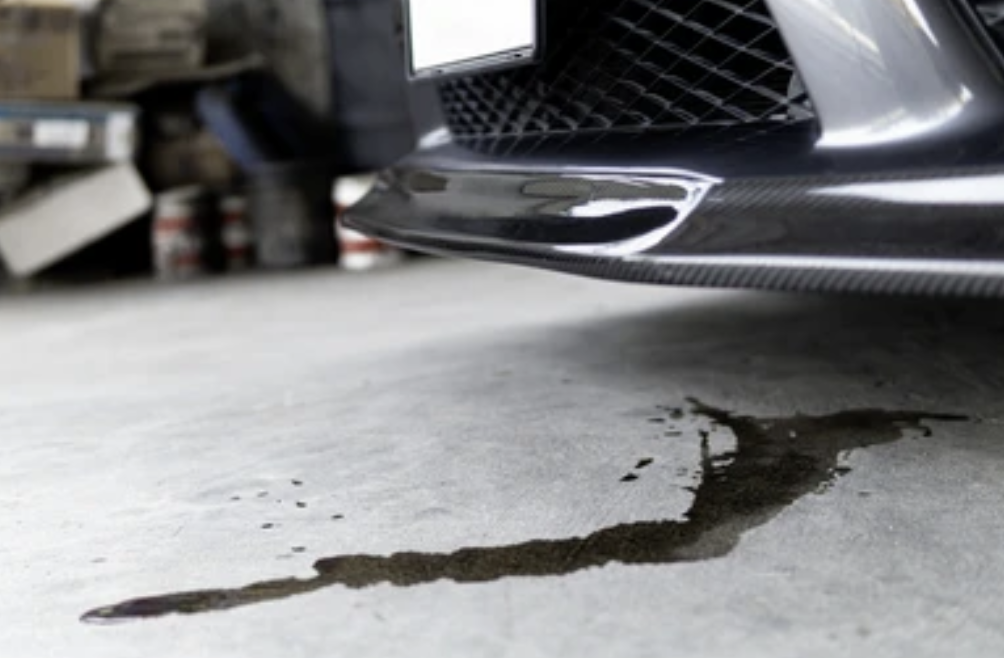oil: (35, 196, 487, 316)
